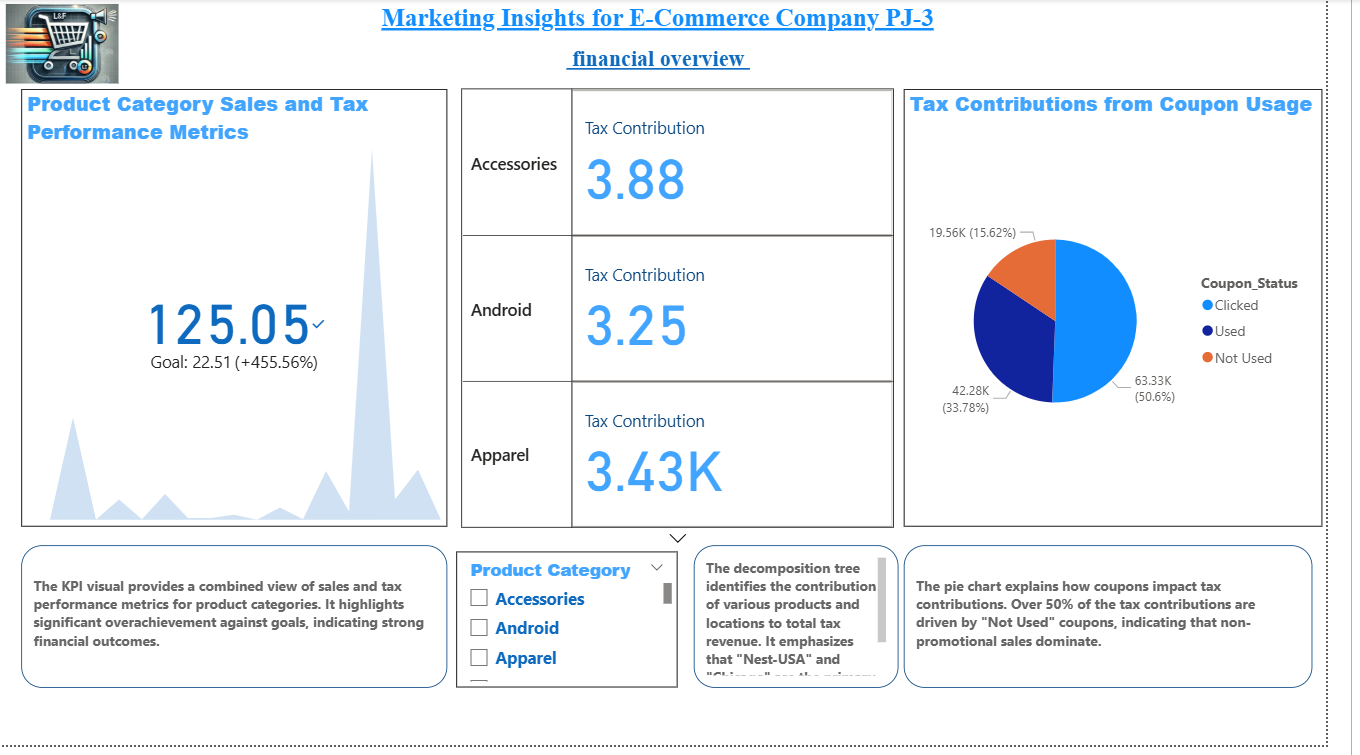

Layout of this report page (visuals, bound fields, positions):
{"tool":"powerbi","page":{"name":"FO-1","canvas":[1280,720],"ordinal":2},"visuals":[{"type":"textbox","box":[363.1,0,556.2,56.7],"z":0},{"type":"cardVisual","fields":{"Rows":["Online_Sales.Product_Category"],"Data":["Online_Sales.Tax Contribution"]},"box":[440.4,61.5,427.1,474.1],"z":1000},{"type":"pieChart","title":"Tax Contributions from Coupon Usage","fields":{"Category":["Online_Sales.Coupon_Status"],"Y":["Online_Sales.Total Sales Value"]},"box":[872.3,86.9,404.2,422.3],"z":2000},{"type":"textbox","box":[541.7,41,196.6,39.8],"z":3000},{"type":"kpi","title":"Product Category Sales and Tax Performance Metrics","fields":{"Indicator":["Online_Sales.Total Sales Value"],"TrendLine":["Online_Sales.Product_Category"],"Goal":["Online_Sales.Tax Contribution"]},"box":[20.5,86.9,411.4,422.3],"z":4000},{"type":"slicer","title":"Product Category","fields":{"Values":["Online_Sales.Product_Category"]},"box":[440.4,533.2,213.5,131.5],"z":5000},{"type":"textbox","box":[20.5,527.2,411.4,137.5],"z":6000},{"type":"textbox","box":[872.3,527.2,394.5,137.5],"z":7000},{"type":"textbox","box":[669.6,527.2,197.9,137.5],"z":8000},{"type":"image","box":[0,0,120.6,86.9],"z":8001}]}

Visuals, with their boxes in screenshot pixels (x1, y1, x2, y2), scaled from the page's 1280x720 canvas onto the 1360x755 screenshot:
textbox: Rect(386, 0, 977, 59)
cardVisual - Online_Sales.Product_Category x Online_Sales.Tax Contribution: Rect(468, 64, 922, 562)
"Tax Contributions from Coupon Usage" pieChart: Rect(927, 91, 1356, 534)
textbox: Rect(576, 43, 784, 85)
"Product Category Sales and Tax Performance Metrics" kpi: Rect(22, 91, 459, 534)
"Product Category" slicer: Rect(468, 559, 695, 697)
textbox: Rect(22, 553, 459, 697)
textbox: Rect(927, 553, 1346, 697)
textbox: Rect(711, 553, 922, 697)
image: Rect(0, 0, 128, 91)
